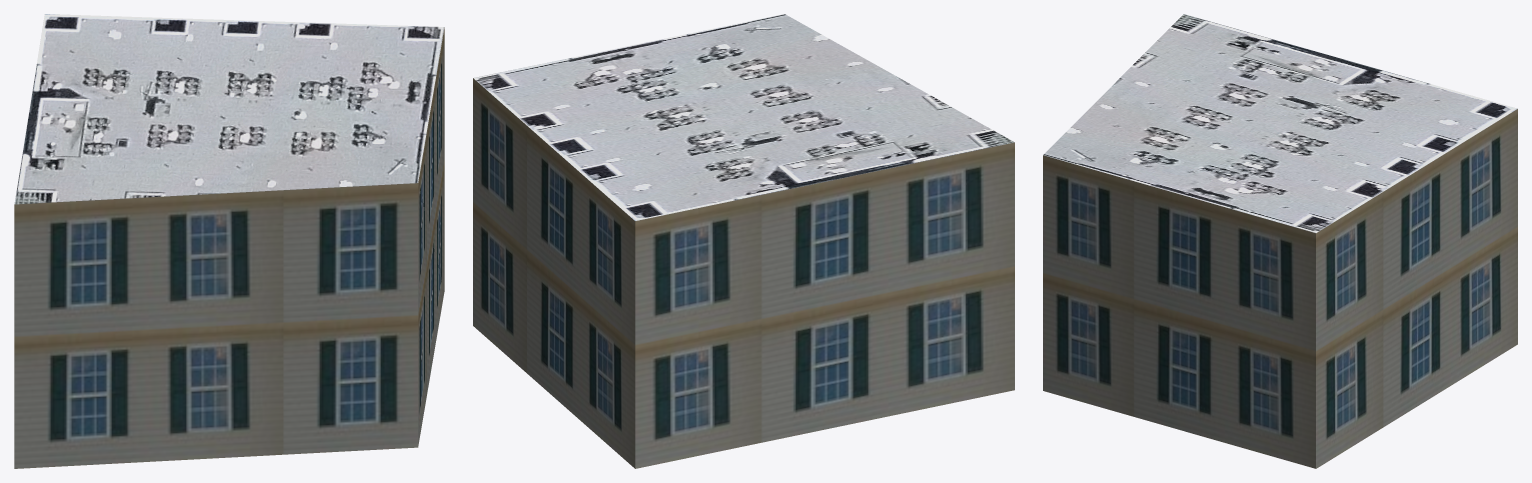
The model's file is ResTex__2846.fbx.
3 views of the same model, side by side, from view 1: azimuth 30°, elevation 25°; view 2: azimuth 150°, elevation 25°; view 3: azimuth 270°, elevation 25° (orthographic). The views are drawn at different scales.
Parts seen in each view (by area): view 1: CityEngineMaterial_7_m, CityEngineMaterial_8_m; view 2: CityEngineMaterial_7_m, CityEngineMaterial_8_m; view 3: CityEngineMaterial_7_m, CityEngineMaterial_8_m.
Part boxes in pixels (<box>): CityEngineMaterial_7_m: <box>14,27,444,468</box>; CityEngineMaterial_8_m: <box>14,14,444,204</box>; CityEngineMaterial_7_m: <box>473,78,1014,468</box>; CityEngineMaterial_8_m: <box>473,14,1014,220</box>; CityEngineMaterial_7_m: <box>1043,109,1517,468</box>; CityEngineMaterial_8_m: <box>1043,14,1517,232</box>.
Size of the model in its own units: 11.97 by 6 by 10.96.
2 materials, 2 textured.
